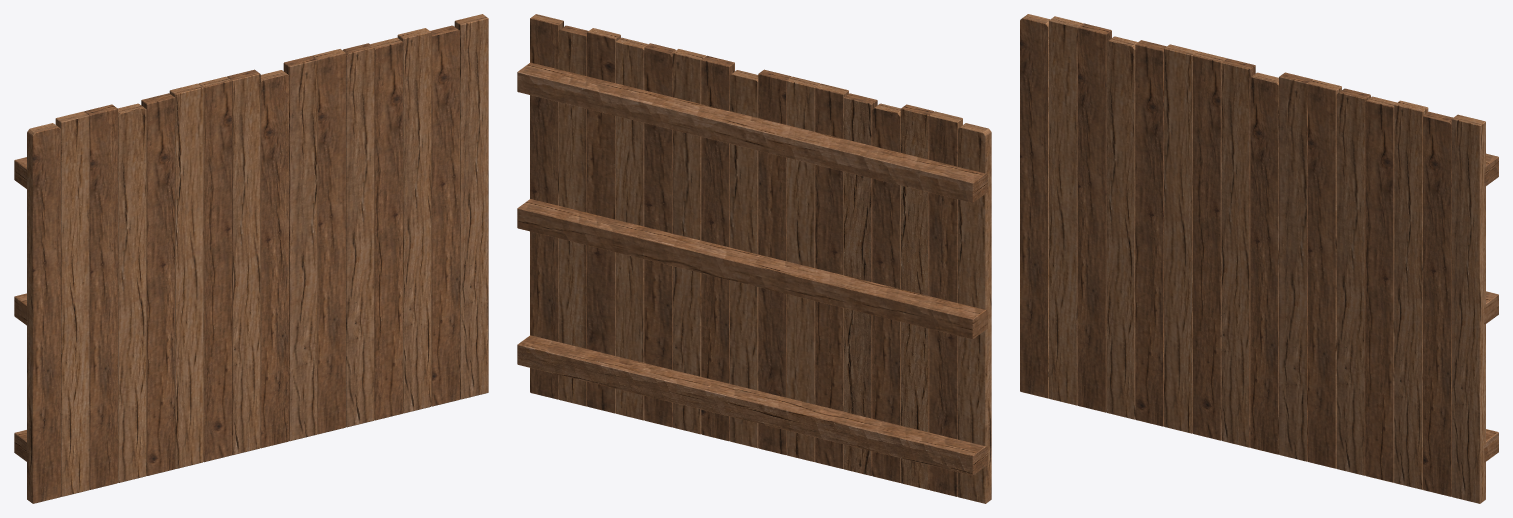
Rendered from SplitPlankWall_3.5Wx2.75Hx0.25D.fbx.
3 renders of one model, left to right at view 1: azimuth 30°, elevation 25°; view 2: azimuth 150°, elevation 25°; view 3: azimuth 330°, elevation 25°, orthographic.
Visible parts, largest first — view 1: Wood_SplitPlankWall; view 2: Wood_SplitPlankWall; view 3: Wood_SplitPlankWall.
Boxes of the visible parts, x1,y1,x2,y2 form: Wood_SplitPlankWall: [14, 14, 488, 503]; Wood_SplitPlankWall: [517, 14, 991, 503]; Wood_SplitPlankWall: [1020, 14, 1498, 503].
Size of the model in its own units: 3.5 by 2.75 by 0.25.
